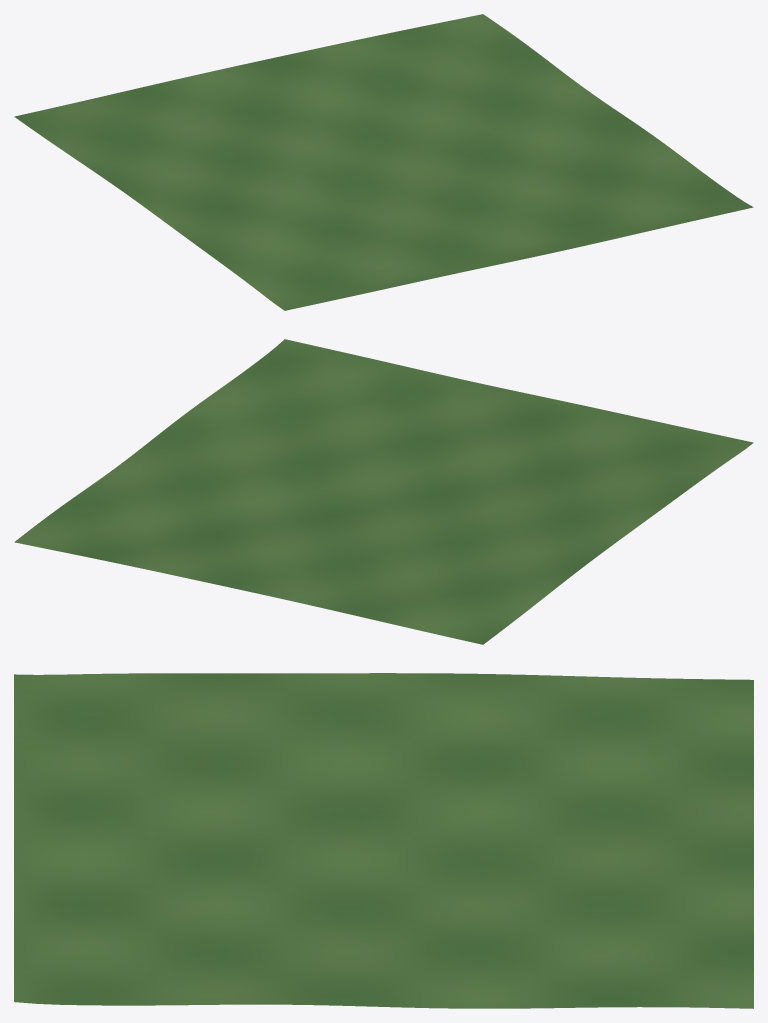
The model's file is chunk_6_11.glb.
3 renders of one model, top to bottom at view 1: azimuth 30°, elevation 25°; view 2: azimuth 150°, elevation 25°; view 3: azimuth 270°, elevation 25°, orthographic. The views are drawn at different scales.
Bounding box in the file's own units: 512 × 17.53 × 512.
